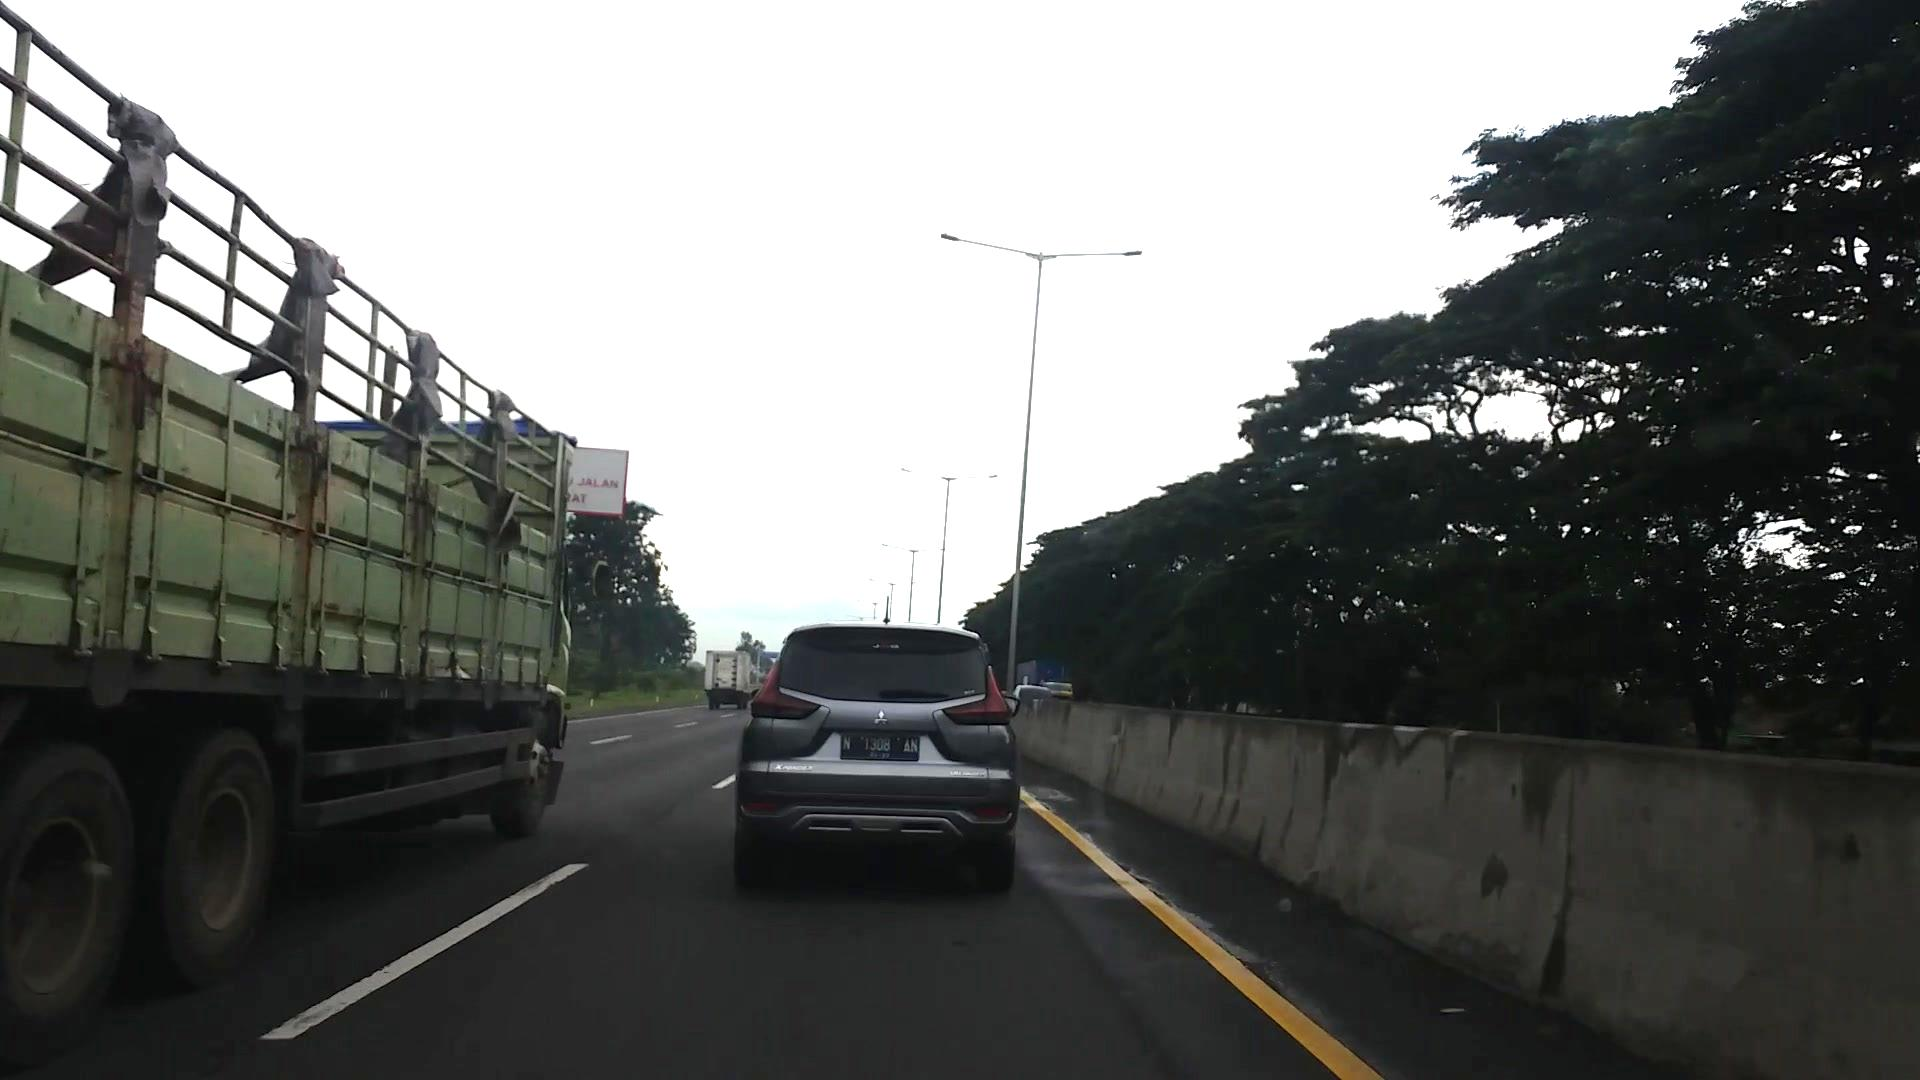plate_positive: (840, 732, 919, 761)
